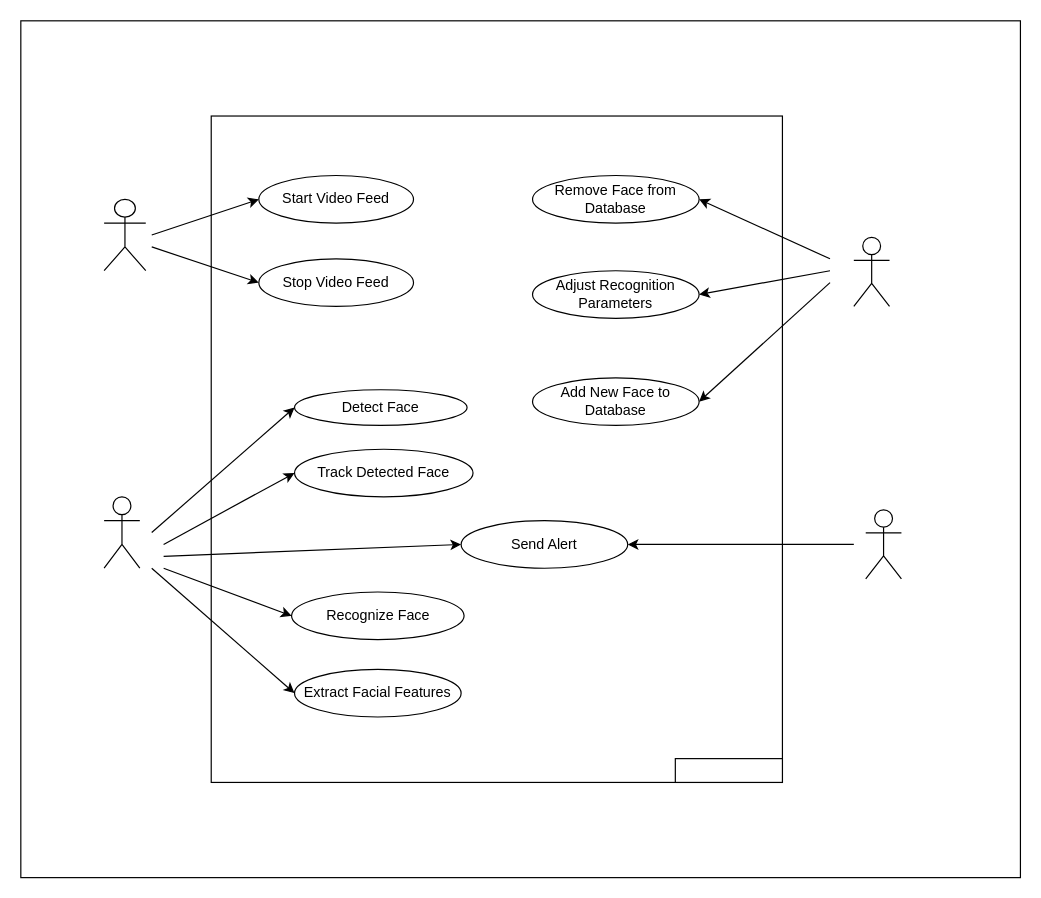
The diagram is 1041 pixels wide and 898 high, and some of its shapes have lost their labels. The centre of each missing label's shape, as x and y in pixels:
"Law Enforcement Officer" belongs at point (883, 544).
"Survillance Camera" belongs at point (124, 234).
"System" belongs at point (121, 532).
"System Administrator" belongs at point (871, 271).
"USE CASES" belongs at point (728, 769).
